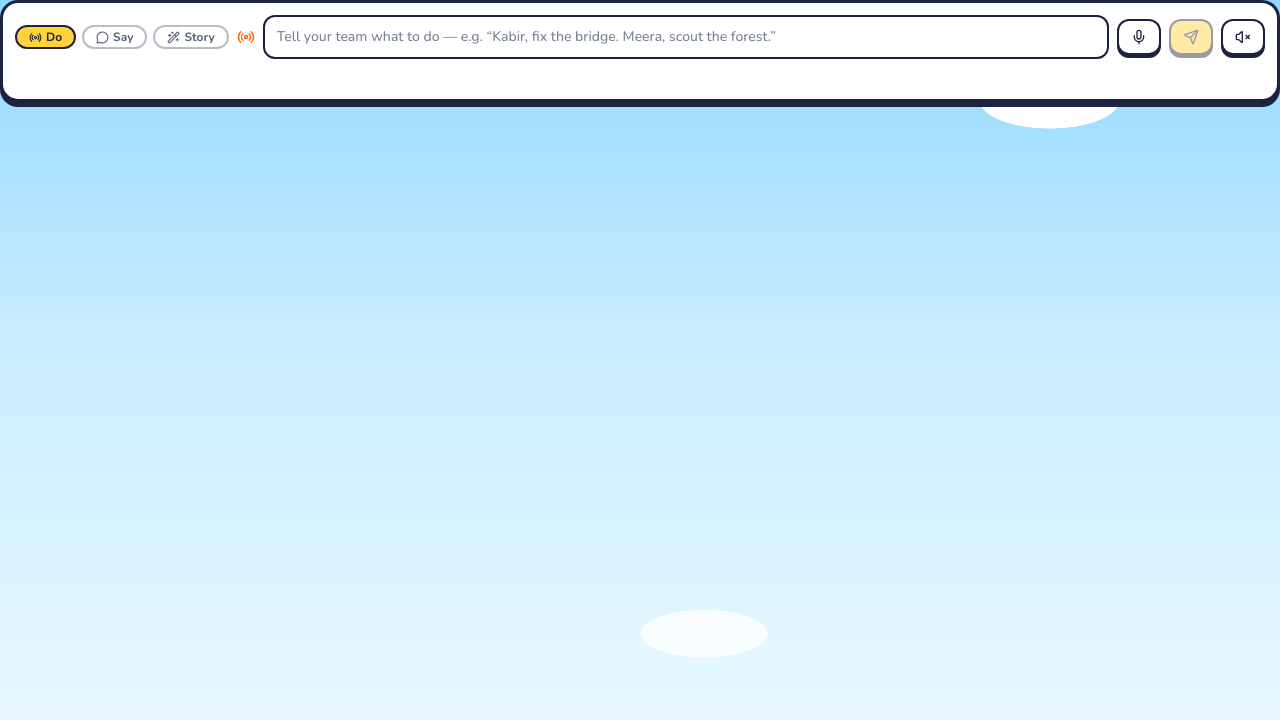
Scenario: CommandBar tabs (Do / Say / Story) › closes the Story tab during the cooldown
Click the tab "Story": (191,37) left=154, top=25, right=229, bottom=49
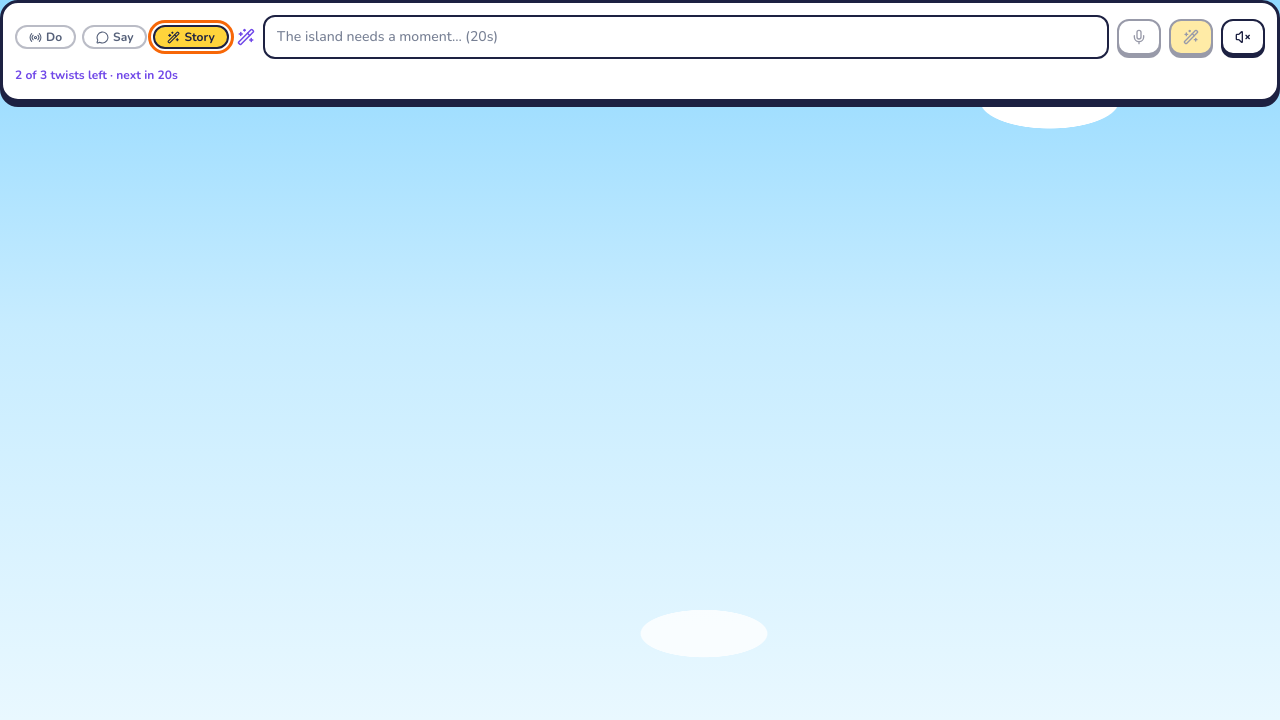
Now the field named "Story twist" is disabled, box left=263, top=15, right=1109, bottom=59
Now the text "2 of 3 twists left · next in 20s" is shown, box left=15, top=67, right=178, bottom=83
